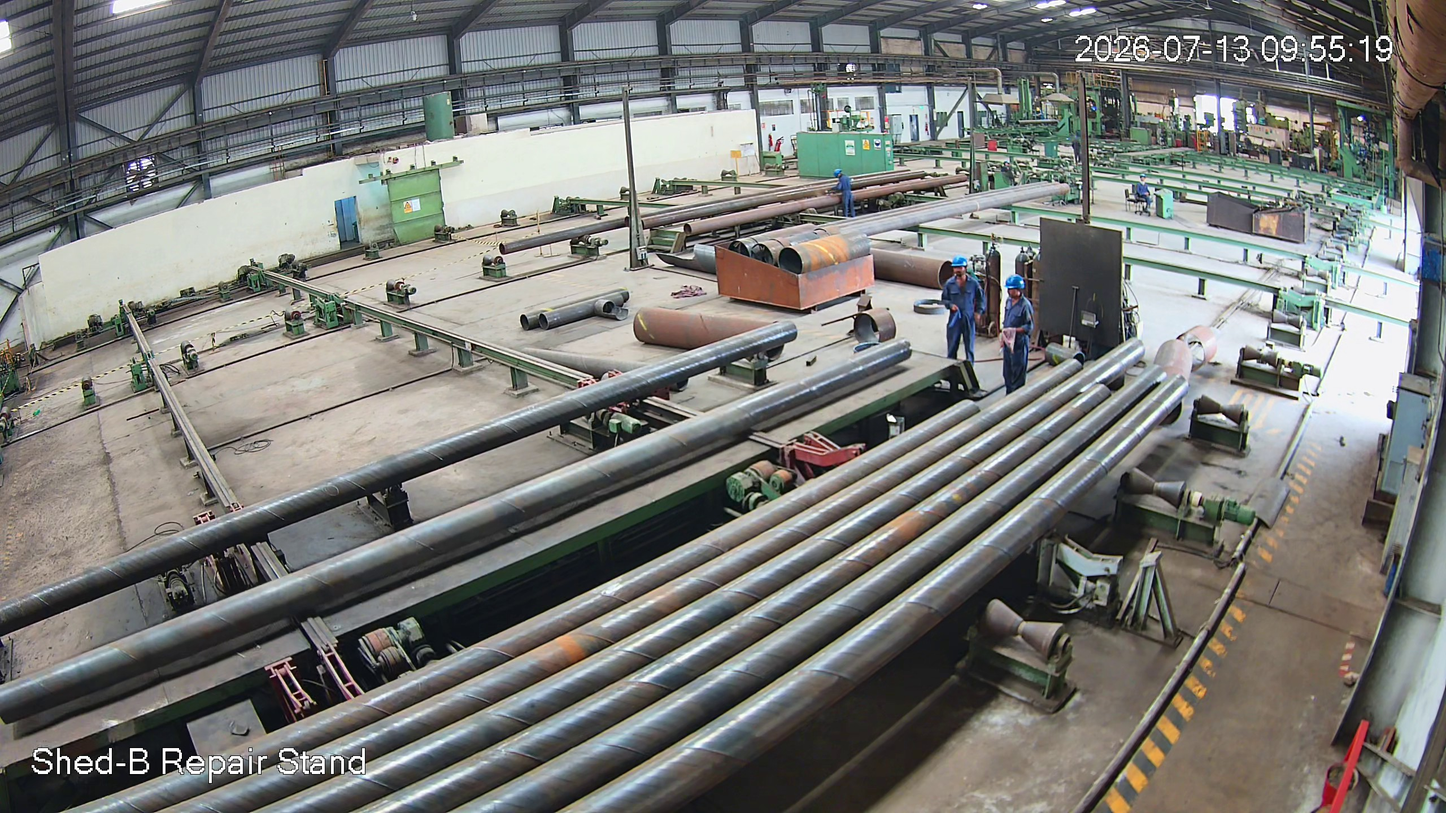Helmet: (1001, 271, 1026, 302), (948, 254, 973, 283)
Person: (935, 257, 985, 366), (999, 274, 1035, 397)
